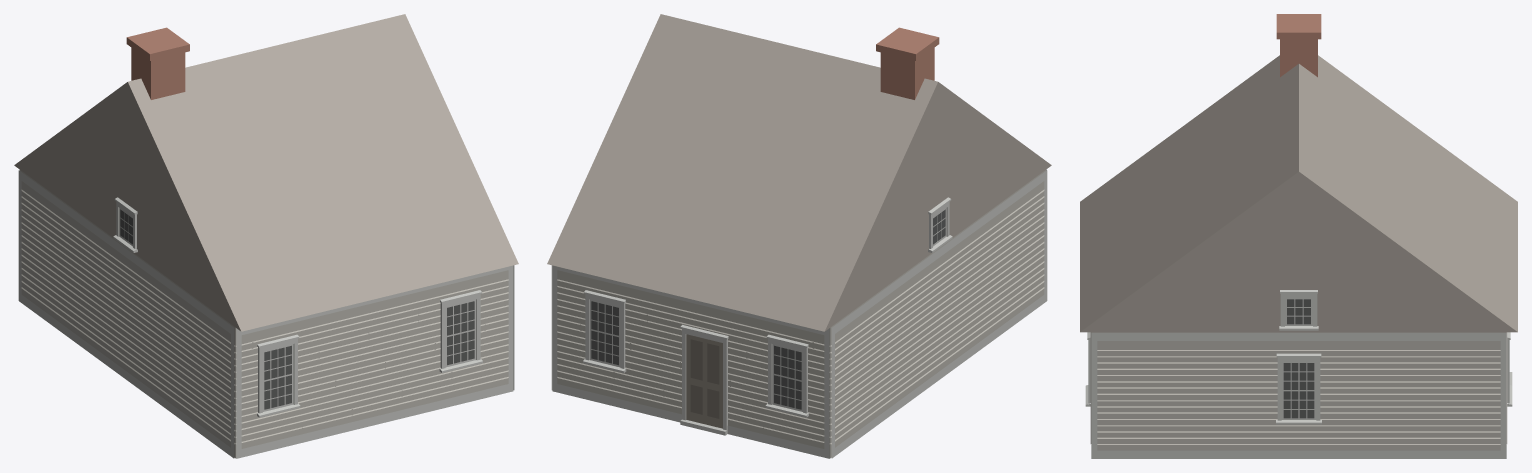
File: recon_1835_blk_west_washington_canal_d6_01__inferred_1835.glb
3 views of the same model, side by side, from view 1: azimuth 30°, elevation 25°; view 2: azimuth 150°, elevation 25°; view 3: azimuth 270°, elevation 25° (orthographic). The views are drawn at different scales.
Visible parts, largest first — view 1: recon_1835_blk_west_washington_canal_d6_01__inferred_1835; view 2: recon_1835_blk_west_washington_canal_d6_01__inferred_1835; view 3: recon_1835_blk_west_washington_canal_d6_01__inferred_1835.
Part boxes in pixels (x1,y1,x2,y2): recon_1835_blk_west_washington_canal_d6_01__inferred_1835: [14, 14, 518, 458]; recon_1835_blk_west_washington_canal_d6_01__inferred_1835: [547, 14, 1051, 458]; recon_1835_blk_west_washington_canal_d6_01__inferred_1835: [1080, 14, 1517, 458].
Size of the model in its own units: 7.02 by 7.74 by 9.64.
